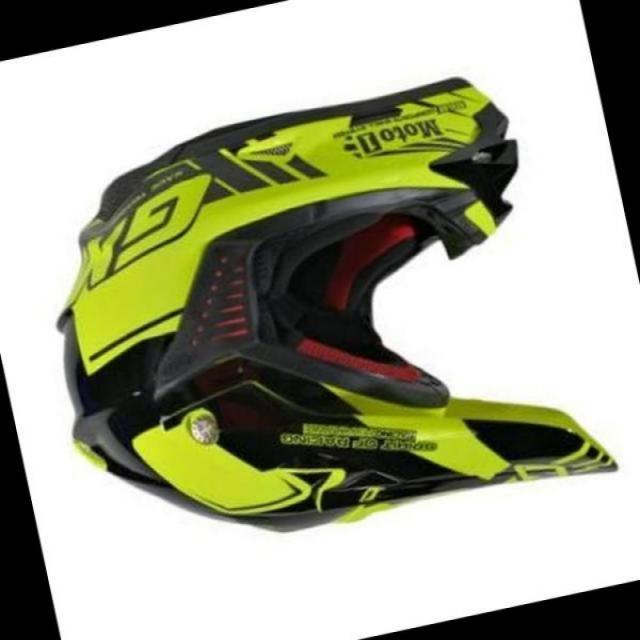Helmet: (58, 68, 640, 535)
